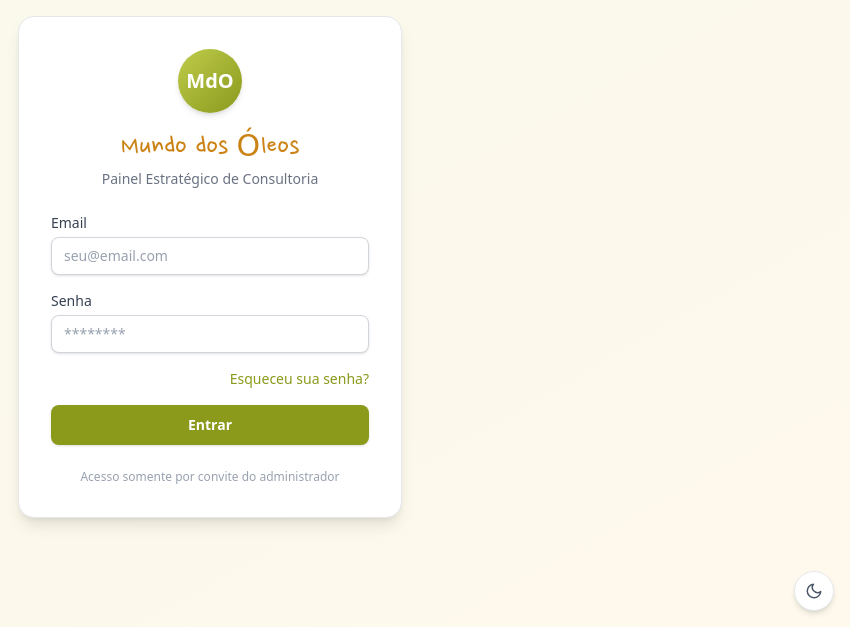
LoginPage › sends forgot password email and shows confirmation
Click the button "Esqueceu sua senha?" at (299, 379), box [230,369,369,389]
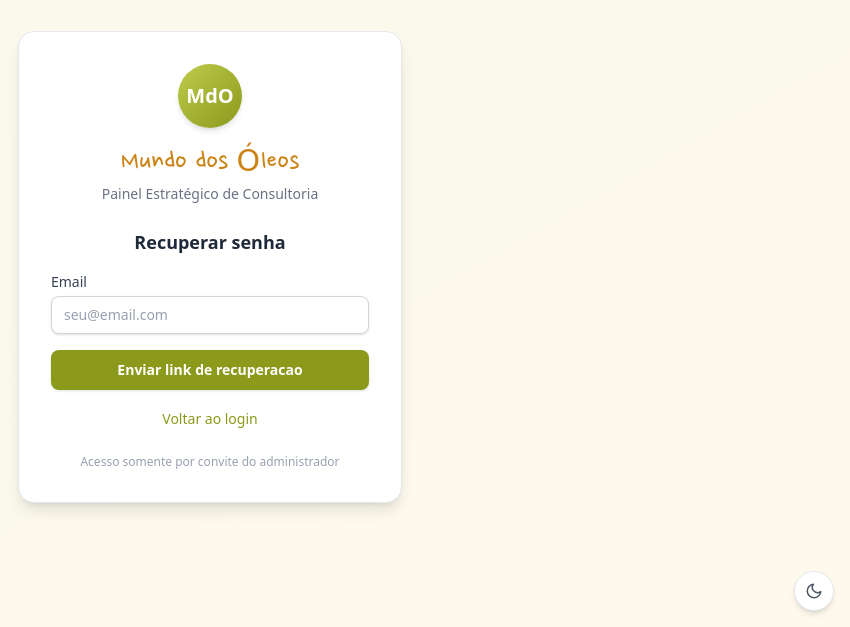
Type "test@test.com" into the field labelled "Email" at (210, 315), box [51,296,369,334]
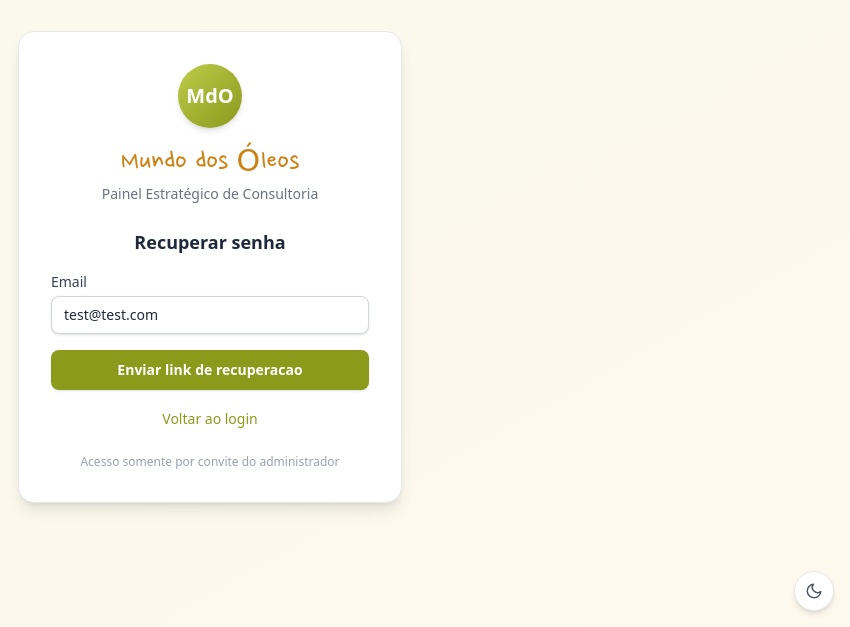
Click the button "Enviar link de recuperacao" at (210, 370), box [51,350,369,390]
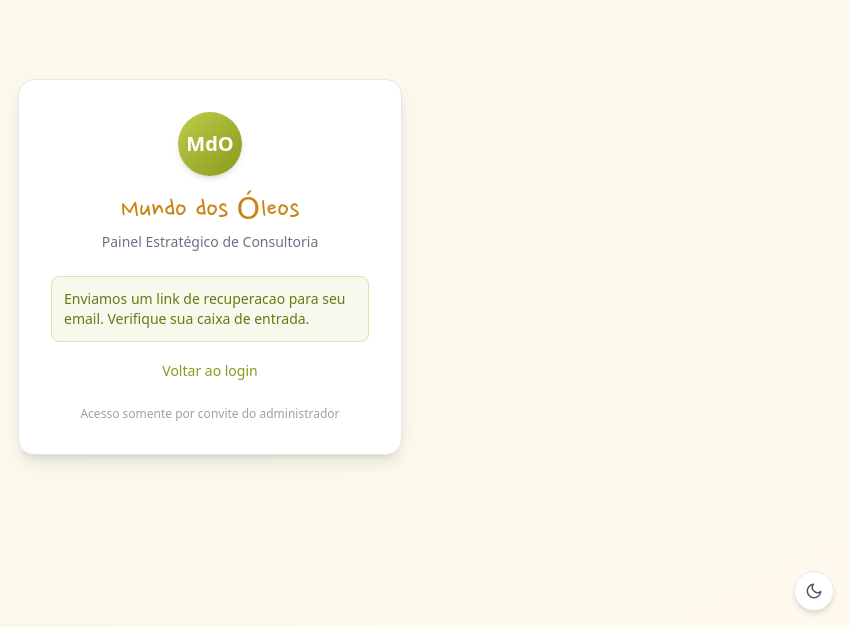
Expected: the text "Enviamos um link de recuperacao" is shown, [64,289,346,328]
